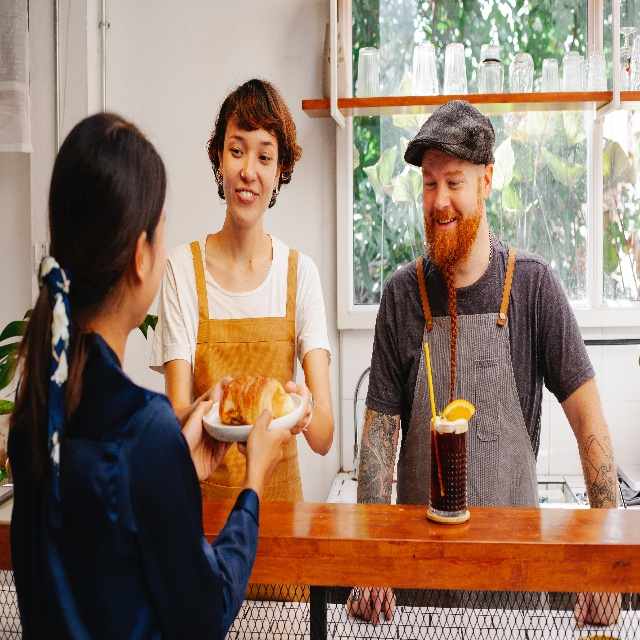Sin_guantes: (237, 408, 291, 489), (182, 401, 233, 482), (346, 586, 397, 627), (573, 591, 621, 626), (284, 379, 313, 436), (209, 376, 233, 405)
